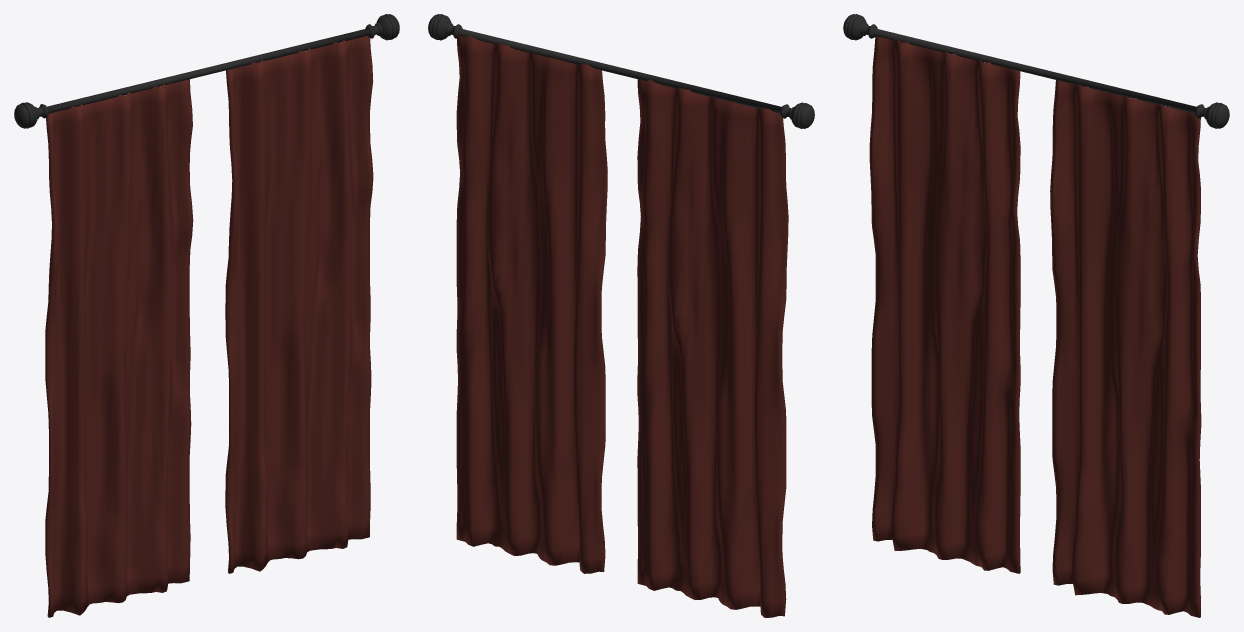
File: curtain.fbx
The picture shows the model from 3 angles, left to right: view 1: azimuth 30°, elevation 25°; view 2: azimuth 150°, elevation 25°; view 3: azimuth 330°, elevation 25°; orthographic projection.
Parts seen in each view (by area): view 1: Plane, curtainrod; view 2: Plane, curtainrod; view 3: Plane, curtainrod.
Part boxes in pixels (x1,y1,x2,y2): Plane: (45,36,373,617); curtainrod: (14,14,399,128); Plane: (456,35,788,617); curtainrod: (428,14,814,128); Plane: (869,36,1201,617); curtainrod: (843,14,1229,128).
Bounding box in the file's own units: 4.87 × 6.35 × 0.382.
